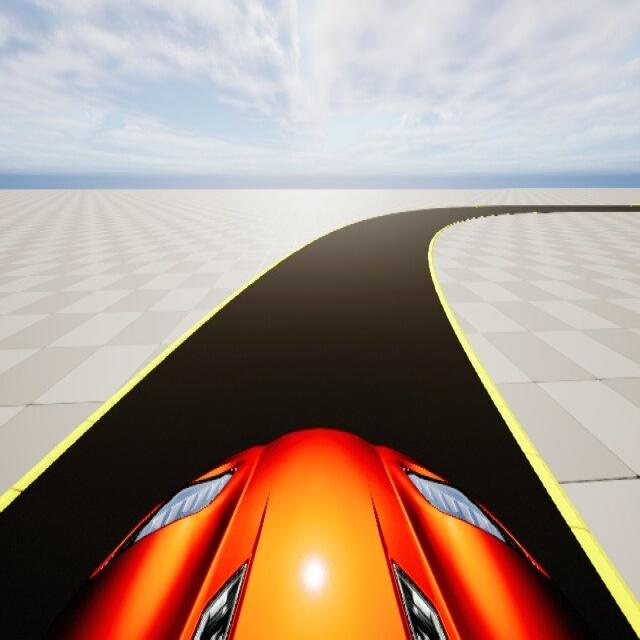lane: (0, 207, 639, 639)
